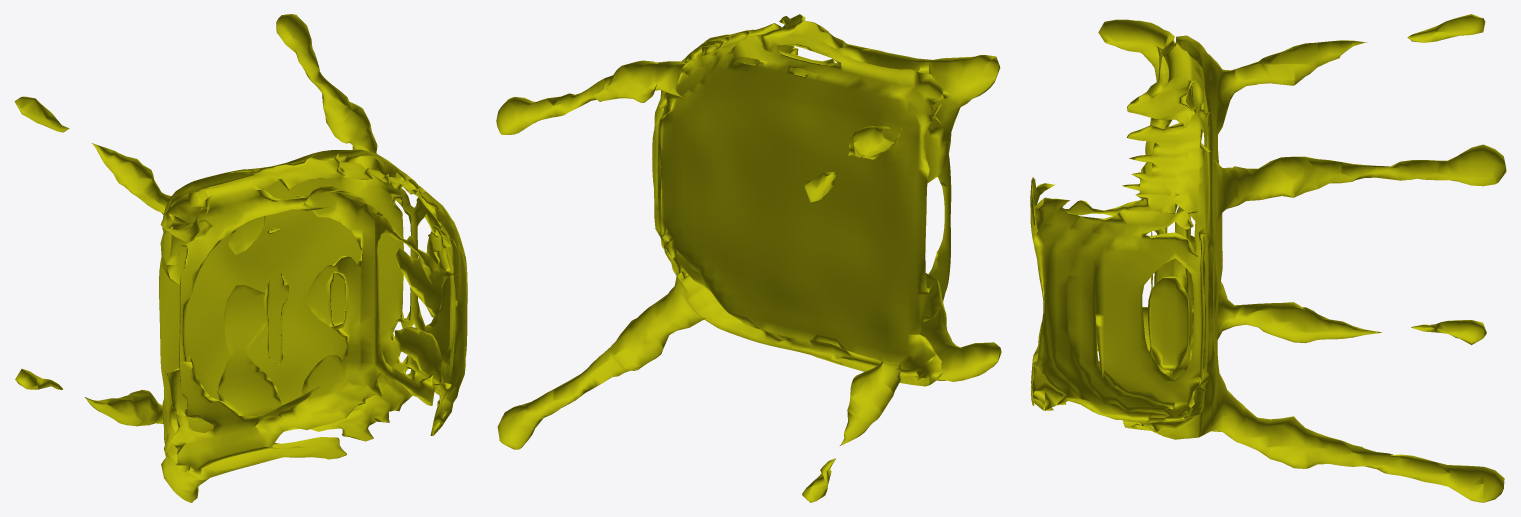
3 views of the same model, side by side, from view 1: azimuth 30°, elevation 25°; view 2: azimuth 150°, elevation 25°; view 3: azimuth 270°, elevation 25° (orthographic). The views are drawn at different scales.
Parts seen in each view (by area): view 1: world; view 2: world; view 3: world.
Part boxes in pixels (x1=…): world: x1=14, y1=14, x2=467, y2=502; world: x1=496, y1=14, x2=1001, y2=502; world: x1=1030, y1=14, x2=1506, y2=502.
Size of the model in its own units: 31.88 by 33.3 by 40.18.
